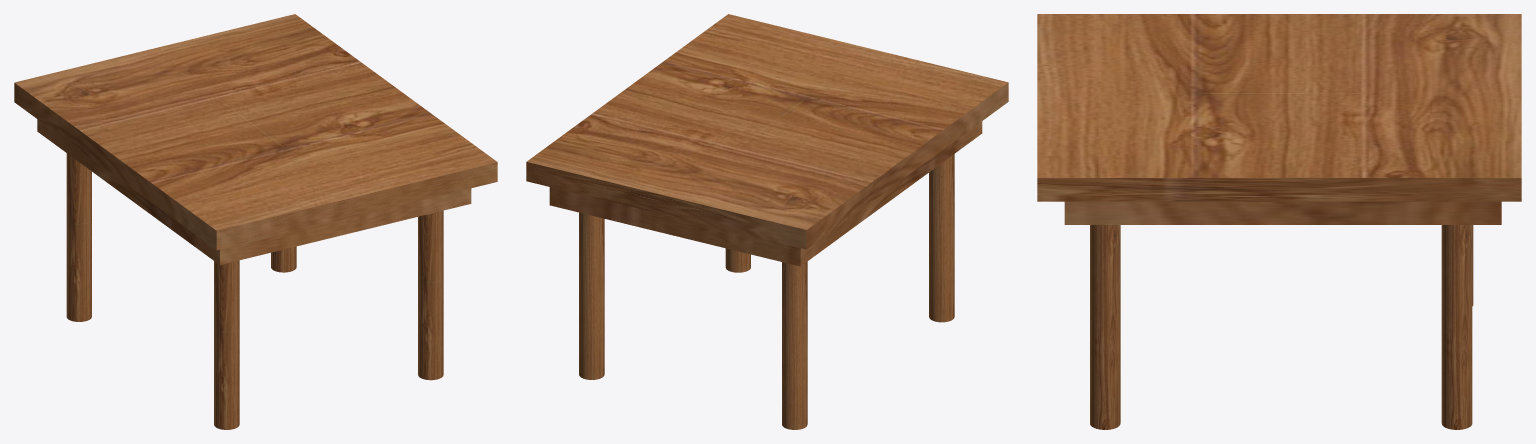
File: desk.fbx
3 renders of one model, left to right at view 1: azimuth 30°, elevation 25°; view 2: azimuth 150°, elevation 25°; view 3: azimuth 270°, elevation 25°, orthographic. The views are drawn at different scales.
Parts seen in each view (by area): view 1: Cube, Cube.001, Cylinder, Cylinder.006, Cylinder.005, Cylinder.007; view 2: Cube, Cube.001, Cylinder.005, Cylinder.007, Cylinder, Cylinder.006; view 3: Cube, Cube.001, Cylinder.007, Cylinder.006.
Boxes of the visible parts, x1,y1,x2,y2 form: Cube: [14, 14, 497, 250]; Cube.001: [37, 119, 471, 264]; Cylinder: [214, 260, 239, 429]; Cylinder.006: [418, 210, 443, 380]; Cylinder.005: [66, 153, 91, 321]; Cylinder.007: [271, 246, 296, 272]; Cube: [526, 14, 1008, 249]; Cube.001: [549, 121, 982, 266]; Cylinder.005: [782, 261, 807, 429]; Cylinder.007: [579, 212, 604, 379]; Cylinder: [929, 154, 954, 322]; Cylinder.006: [725, 248, 750, 272]; Cube: [1037, 14, 1521, 201]; Cube.001: [1064, 201, 1501, 224]; Cylinder.007: [1441, 225, 1472, 429]; Cylinder.006: [1090, 225, 1120, 429].
Bounding box in the file's own units: 397 × 302 × 495.
